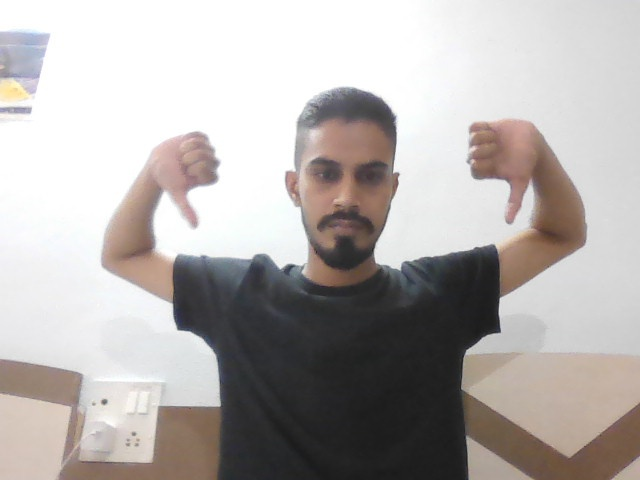ThumbsDown: (464, 113, 531, 225)
